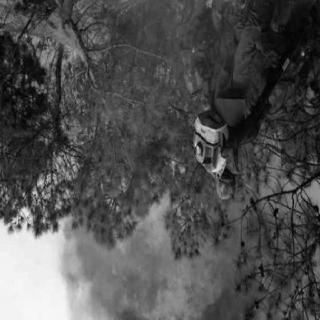Fire: (111, 207, 215, 319), (7, 39, 96, 167)
other: (205, 19, 319, 195)
